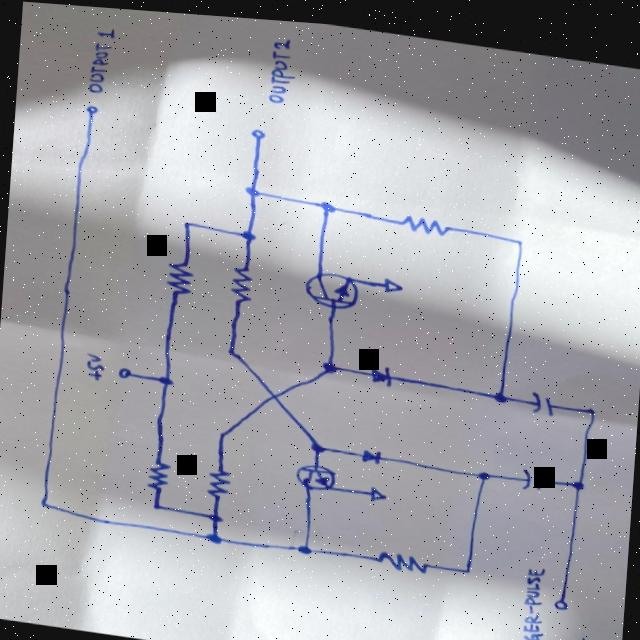capacitor: (513, 453, 545, 489), (524, 381, 555, 412)
diode: (363, 352, 396, 384), (353, 438, 385, 464)
ground: (356, 477, 394, 502), (369, 267, 406, 291)
junction: (256, 379, 286, 405), (312, 351, 341, 376), (311, 190, 338, 215), (465, 457, 494, 479), (232, 222, 262, 243), (237, 177, 264, 200), (198, 525, 226, 547), (301, 433, 328, 455), (482, 378, 508, 400), (288, 535, 316, 555), (150, 369, 177, 388), (502, 225, 527, 245), (563, 468, 590, 486), (218, 336, 240, 358), (29, 492, 52, 513), (170, 212, 195, 231), (200, 507, 226, 525), (578, 393, 600, 413), (209, 422, 230, 440), (454, 554, 474, 572), (144, 498, 164, 510)
resistor: (372, 543, 433, 571), (394, 205, 452, 233), (140, 450, 173, 494), (163, 256, 194, 297), (224, 261, 255, 302), (202, 461, 230, 498)
terminal: (242, 113, 266, 147), (110, 361, 143, 381), (548, 580, 570, 605), (78, 98, 100, 123)
text: (513, 555, 547, 640), (80, 20, 118, 96), (258, 29, 296, 102), (78, 347, 105, 381), (574, 624, 604, 640)
transistor: (298, 263, 359, 309), (288, 454, 336, 490)
